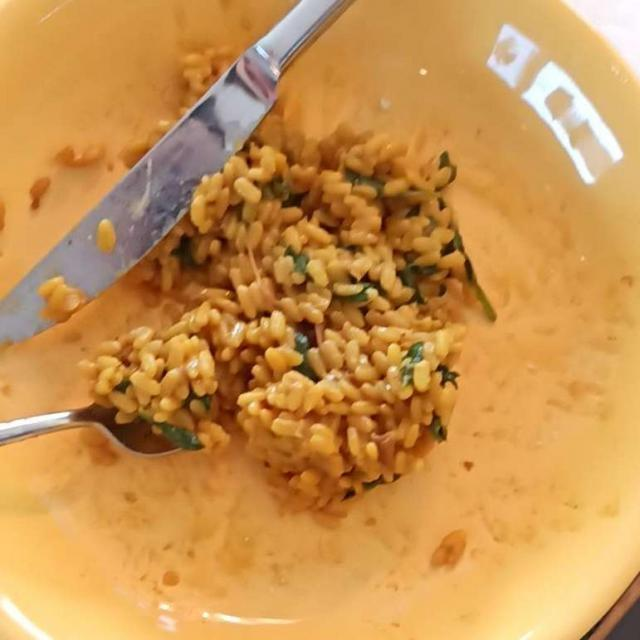risotto: (87, 135, 470, 496)
